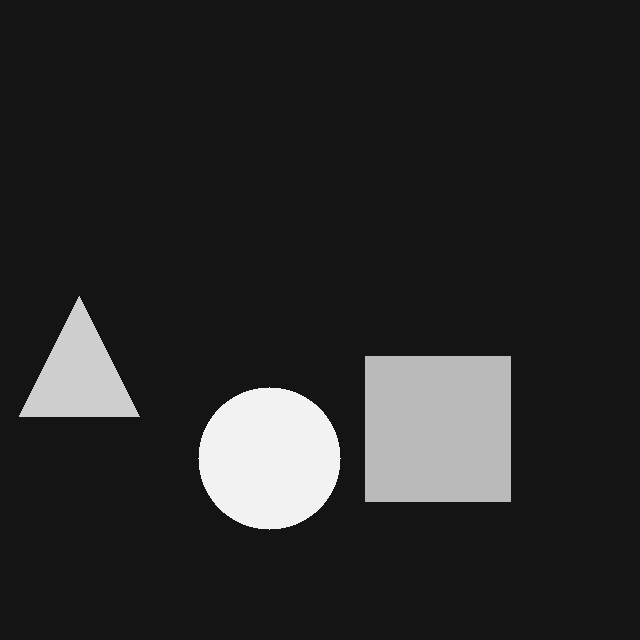circle: (198, 387, 340, 529)
square: (365, 356, 510, 501)
triangle: (19, 296, 139, 416)
